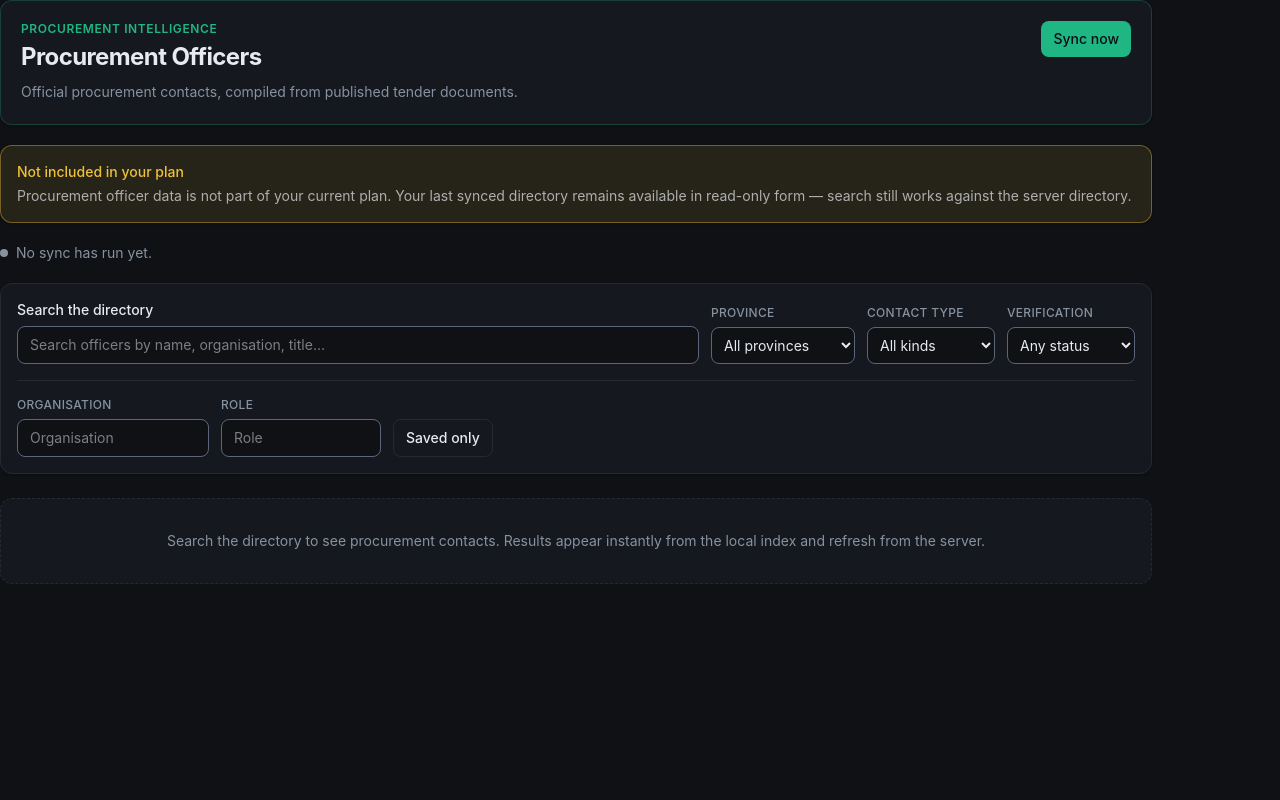
it: ProcurementOfficerDirectory shell › keeps search working under the entitlement banner (read-only index)
Expected: the text "Not included in your plan" is shown, top-left (17, 163), bottom-right (184, 180)
Type "Mokoena" into the search field named "Search officers" at (358, 345), box top-left (17, 326), bottom-right (699, 364)
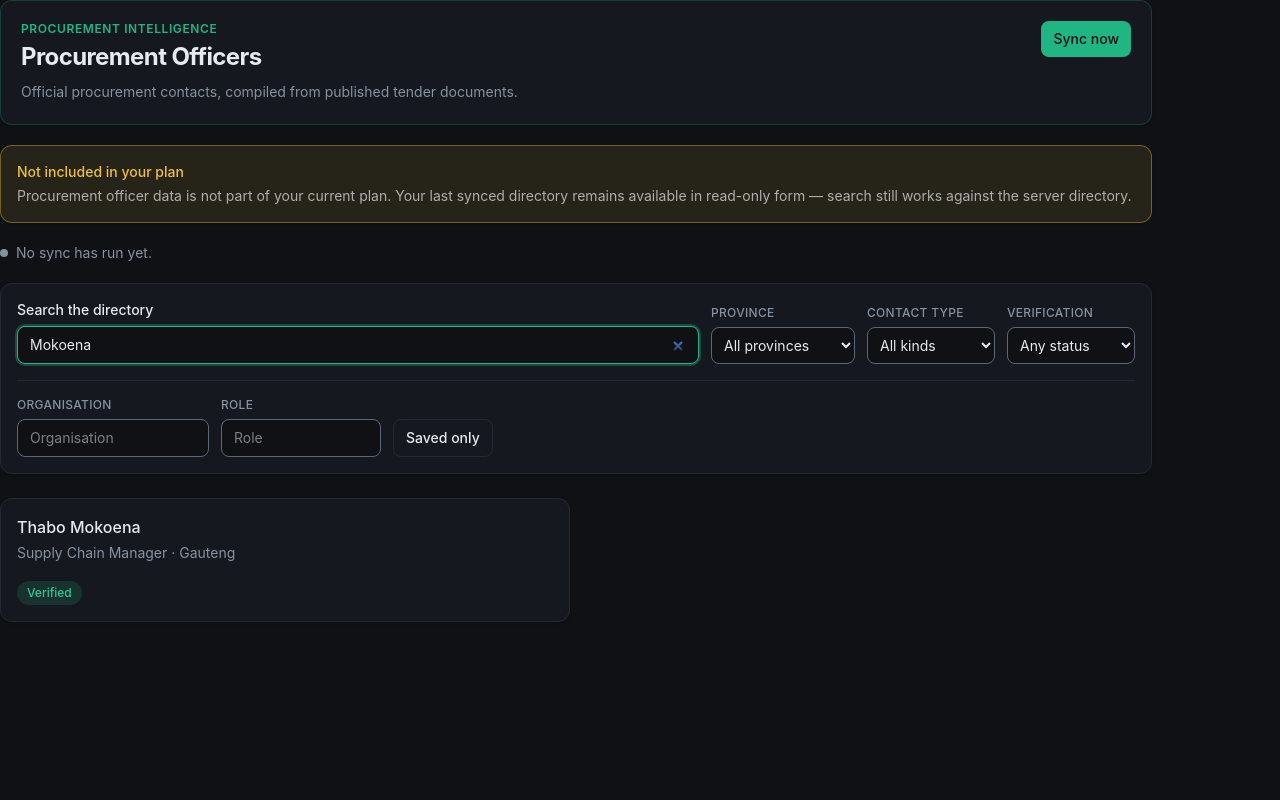
Expected: the text "Thabo Mokoena" is shown, top-left (17, 517), bottom-right (141, 537)
